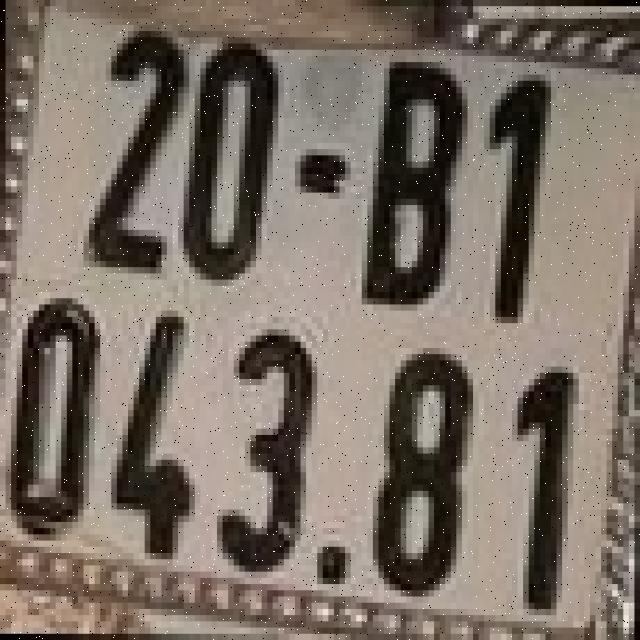0: (178, 37, 284, 280), (3, 292, 103, 534)
1: (506, 360, 584, 616), (482, 71, 560, 326)
2: (81, 25, 181, 273)
3: (217, 323, 317, 572)
4: (111, 308, 200, 556)
8: (364, 342, 476, 596)
B: (353, 50, 465, 323)
